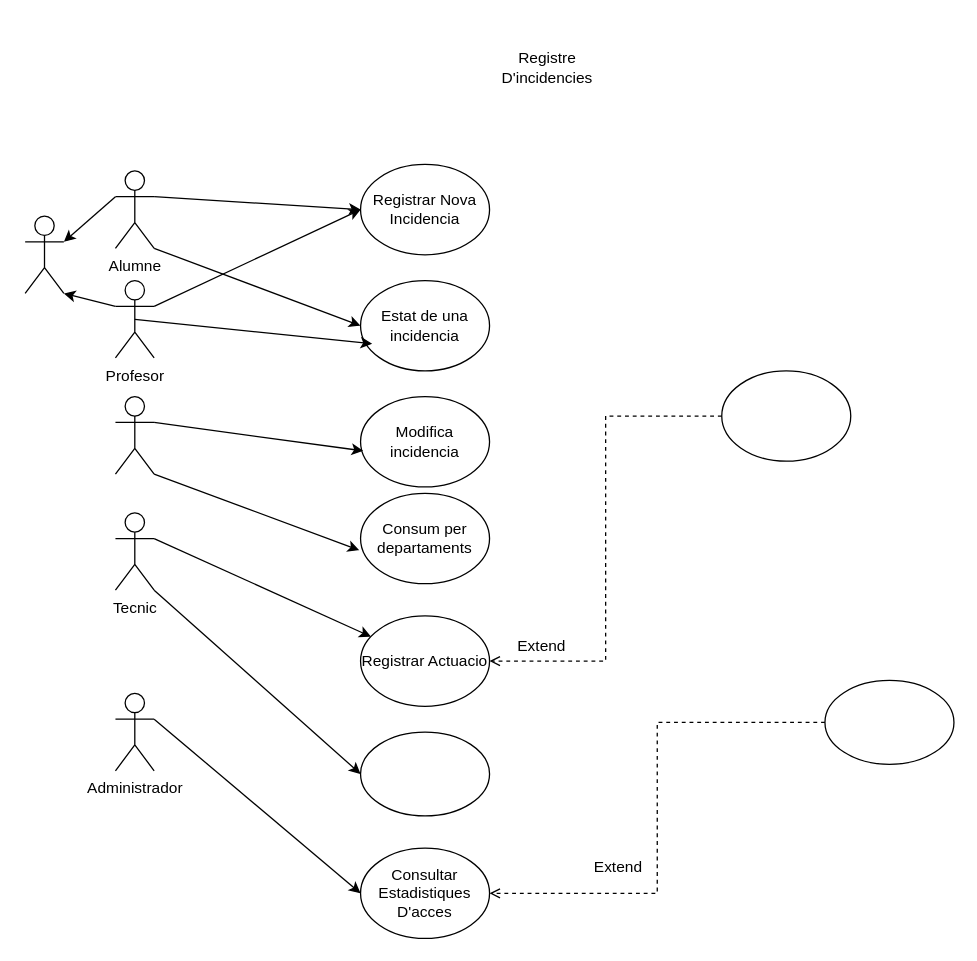
The diagram is 977 pixels wide and 961 high, and some of its shapes have lost their labels. The box of each missing label's shape, as (x1, y1, x2, y2) in pixels:
Filtrar Logs: (824, 679, 954, 764)
Finalitzar Incidencia: (720, 370, 851, 461)
Informe de Tecnics: (359, 731, 490, 816)
Responsable D'informatica: (114, 395, 154, 474)
Usuari: (24, 215, 64, 293)
